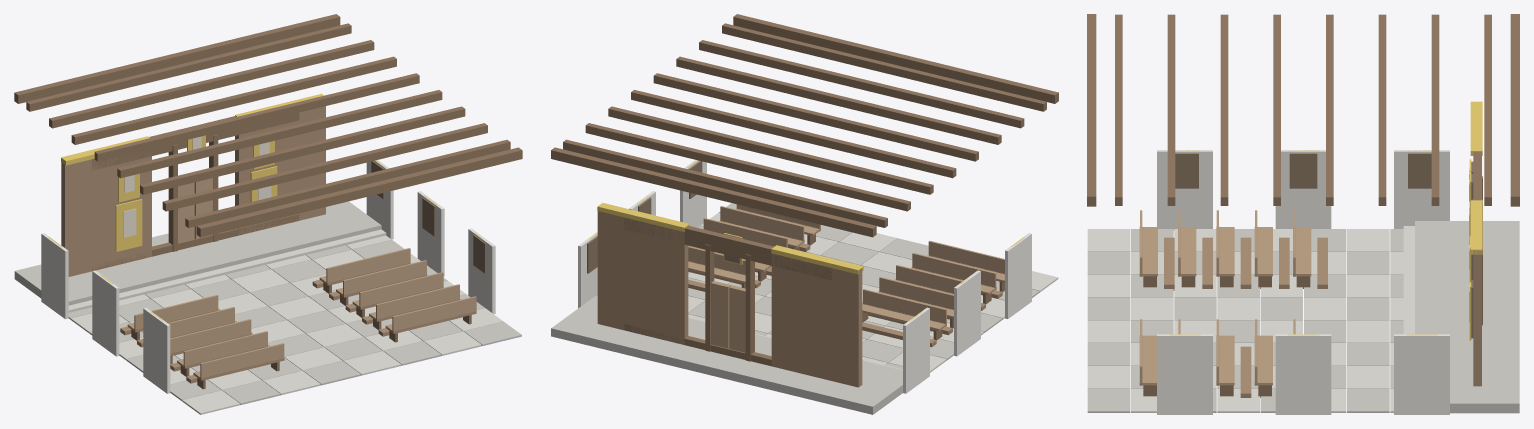
The model's file is church_interior_v1.glb.
3 renders of one model, left to right at view 1: azimuth 30°, elevation 25°; view 2: azimuth 150°, elevation 25°; view 3: azimuth 270°, elevation 25°, orthographic. The views are drawn at different scales.
Parts seen in each view (by area): view 1: Solea, Iconostasis.Panel.-1, Beam.Edge.-1, Beam.Edge.1, Beam.3, Beam.4, Beam.5, Beam.6, Beam.7, Beam.1, Beam.2, Iconostasis.Panel.1 (+57 smaller); view 2: Iconostasis.Panel.-1, Iconostasis.Panel.1, Solea, Beam.Edge.1, Beam.Edge.-1, Beam.2, Beam.5, Beam.1, Beam.3, Beam.6, Beam.4, Beam.0 (+29 smaller); view 3: Solea, WallPiece.1.1, WallPiece.1.0, WallPiece.1.2, WallPiece.-1.0, WallPiece.-1.2, WallPiece.-1.1, Beam.Edge.1, Beam.Edge.-1, Beam.1, Beam.2, Beam.5 (+65 smaller).
Boxes of the visible parts, x1,y1,x2,y2 form: Solea: [14, 201, 381, 305]; Iconostasis.Panel.-1: [61, 152, 151, 276]; Beam.Edge.-1: [196, 147, 522, 237]; Beam.Edge.1: [14, 14, 340, 103]; Beam.3: [117, 90, 442, 178]; Beam.4: [94, 73, 419, 161]; Beam.5: [71, 56, 396, 144]; Beam.6: [49, 40, 374, 128]; Beam.7: [26, 23, 351, 111]; Beam.1: [162, 123, 487, 211]; Beam.2: [140, 106, 465, 194]; Iconostasis.Panel.1: [235, 106, 325, 235]; Iconostasis.Panel.-1: [771, 253, 862, 387]; Iconostasis.Panel.1: [597, 211, 688, 344]; Solea: [551, 295, 902, 414]; Beam.Edge.1: [551, 147, 876, 237]; Beam.Edge.-1: [733, 14, 1058, 103]; Beam.2: [676, 56, 1001, 144]; Beam.5: [608, 106, 933, 194]; Beam.1: [699, 40, 1024, 128]; Beam.3: [653, 73, 978, 161]; Beam.6: [585, 123, 910, 211]; Beam.4: [631, 90, 956, 178]; Beam.0: [722, 23, 1046, 111]; Solea: [1415, 221, 1519, 413]; WallPiece.1.1: [1275, 334, 1331, 414]; WallPiece.1.0: [1157, 334, 1212, 414]; WallPiece.1.2: [1394, 334, 1449, 414]; WallPiece.-1.0: [1157, 150, 1212, 230]; WallPiece.-1.2: [1394, 150, 1449, 228]; WallPiece.-1.1: [1275, 150, 1331, 228]; Beam.Edge.1: [1510, 14, 1519, 206]; Beam.Edge.-1: [1087, 14, 1096, 206]; Beam.1: [1167, 14, 1175, 205]; Beam.2: [1220, 14, 1228, 205]; Beam.5: [1378, 14, 1386, 205].
Bounding box in the file's own units: 12.64 × 6.86 × 12.42.
